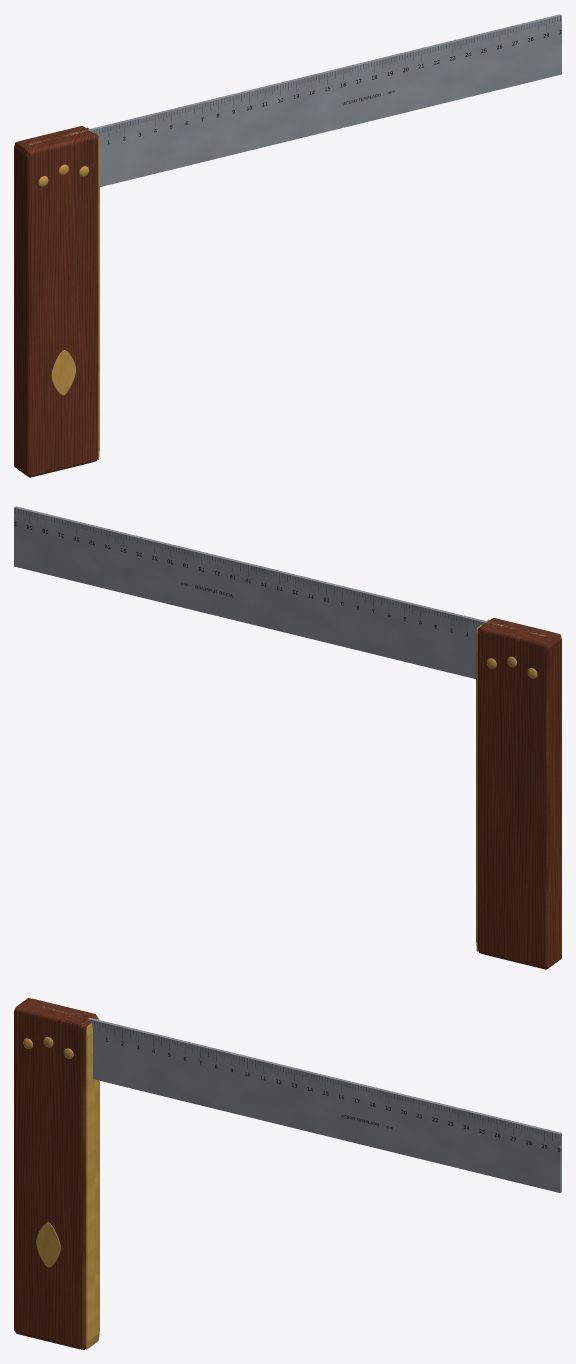
File: escuadra.glb
3 renders of one model, top to bottom at view 1: azimuth 30°, elevation 25°; view 2: azimuth 150°, elevation 25°; view 3: azimuth 330°, elevation 25°, orthographic.
Visible parts, largest first — view 1: hoja, culata, escudo, pletina_laton; view 2: hoja, culata, pletina_laton; view 3: hoja, culata, pletina_laton, escudo.
Boxes of the visible parts, bbox=[...] form: hoja: bbox=[29, 14, 561, 186]; culata: bbox=[14, 126, 98, 477]; escudo: bbox=[51, 350, 76, 395]; pletina_laton: bbox=[86, 127, 99, 459]; hoja: bbox=[14, 506, 545, 678]; culata: bbox=[477, 618, 561, 969]; pletina_laton: bbox=[476, 619, 489, 951]; hoja: bbox=[42, 1006, 561, 1192]; culata: bbox=[14, 998, 97, 1349]; pletina_laton: bbox=[85, 1018, 99, 1349]; escudo: bbox=[36, 1222, 60, 1267].
Bounding box in the file's own units: 0.346 × 0.2 × 0.0189.
Materials: 3 (3 with a texture image).
